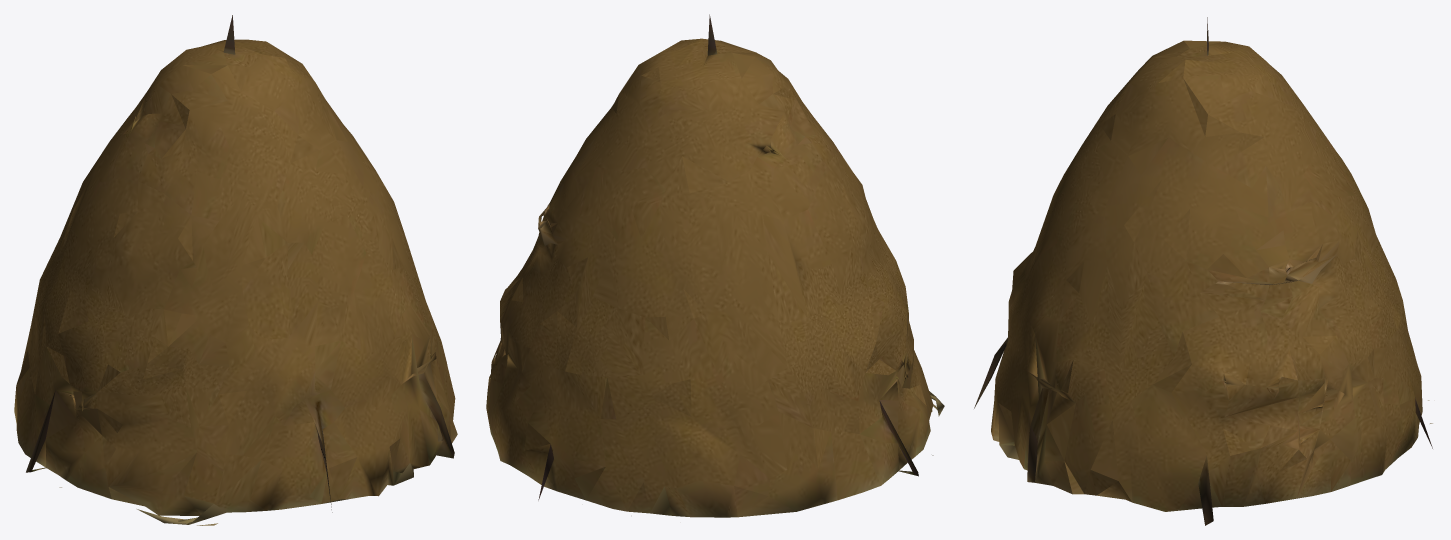
File: haystack.glb
3 renders of one model, left to right at view 1: azimuth 30°, elevation 25°; view 2: azimuth 150°, elevation 25°; view 3: azimuth 270°, elevation 25°, orthographic.
Visible parts, largest first — view 1: tripo_node_ae104543; view 2: tripo_node_ae104543; view 3: tripo_node_ae104543.
Boxes of the visible parts, x1,y1,x2,y2 form: tripo_node_ae104543: [14, 15, 457, 525]; tripo_node_ae104543: [486, 14, 944, 517]; tripo_node_ae104543: [974, 17, 1432, 525].
Size of the model in its own units: 1.05 by 1 by 1.02.
Materials: 1 (1 with a texture image).
